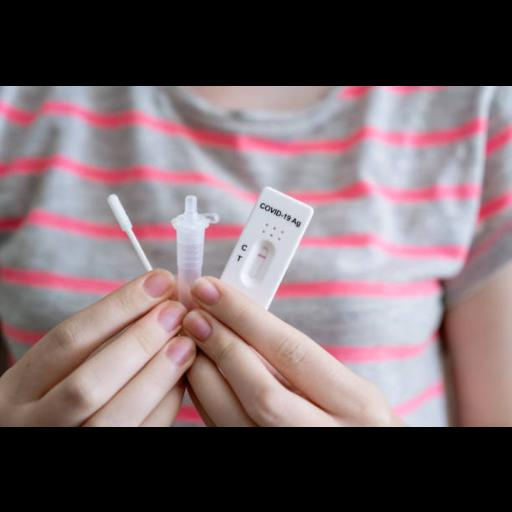Neg: (218, 183, 315, 308)
